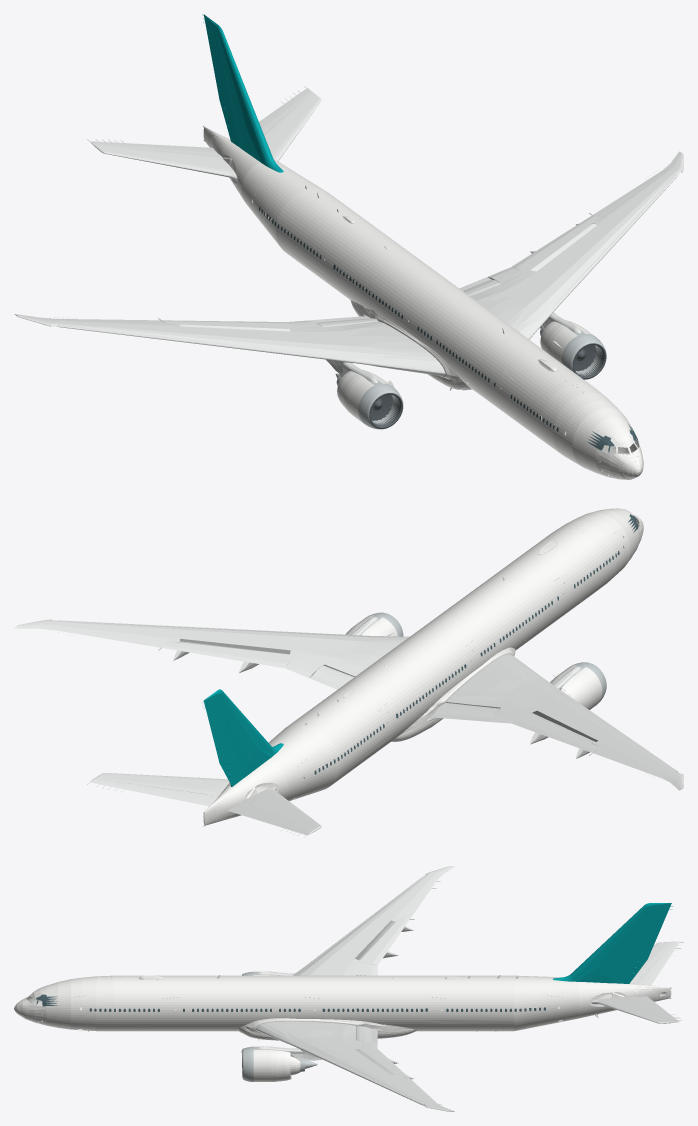
The model's file is boeing-777-300er.glb.
The picture shows the model from 3 angles, top to bottom: view 1: azimuth 30°, elevation 25°; view 2: azimuth 150°, elevation 25°; view 3: azimuth 270°, elevation 25°; orthographic projection. The views are drawn at different scales.
Parts seen in each view (by area): view 1: ALTITUDE ivory fuselage, Wing alloy, ALTITUDE teal tail, Engine polished metal, Engine fan blades, Cabin and cockpit glazing; view 2: ALTITUDE ivory fuselage, Wing alloy, ALTITUDE teal tail, Cabin and cockpit glazing, Engine polished metal; view 3: ALTITUDE ivory fuselage, Wing alloy, ALTITUDE teal tail, Cabin and cockpit glazing, Engine polished metal.
Part boxes in pixels (<box>): ALTITUDE ivory fuselage: <box>203,126,643,479</box>; Wing alloy: <box>14,86,683,382</box>; ALTITUDE teal tail: <box>202,14,283,172</box>; Engine polished metal: <box>335,321,606,429</box>; Engine fan blades: <box>369,343,606,428</box>; Cabin and cockpit glazing: <box>259,207,638,452</box>; ALTITUDE ivory fuselage: <box>203,508,643,826</box>; Wing alloy: <box>14,616,683,837</box>; ALTITUDE teal tail: <box>202,689,283,786</box>; Cabin and cockpit glazing: <box>314,514,638,774</box>; Engine polished metal: <box>356,612,606,702</box>; ALTITUDE ivory fuselage: <box>14,971,671,1081</box>; Wing alloy: <box>255,866,683,1111</box>; ALTITUDE teal tail: <box>553,903,672,983</box>; Cabin and cockpit glazing: <box>36,994,545,1011</box>; Engine polished metal: <box>242,971,317,1081</box>.
Size of the model in its own units: 64.8 by 17.25 by 74.75.
